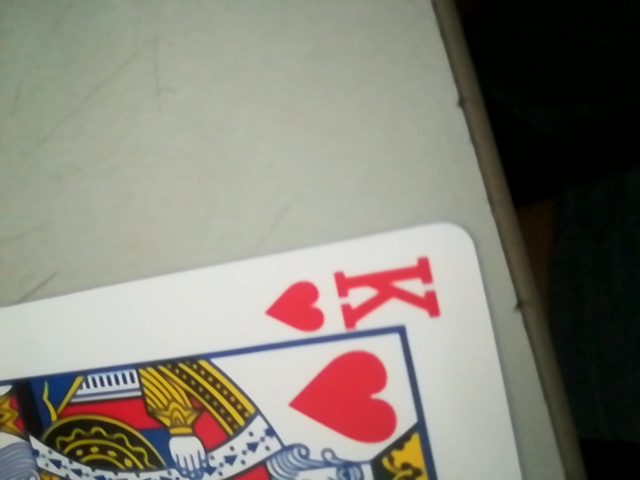hx k: (267, 254, 447, 340)
